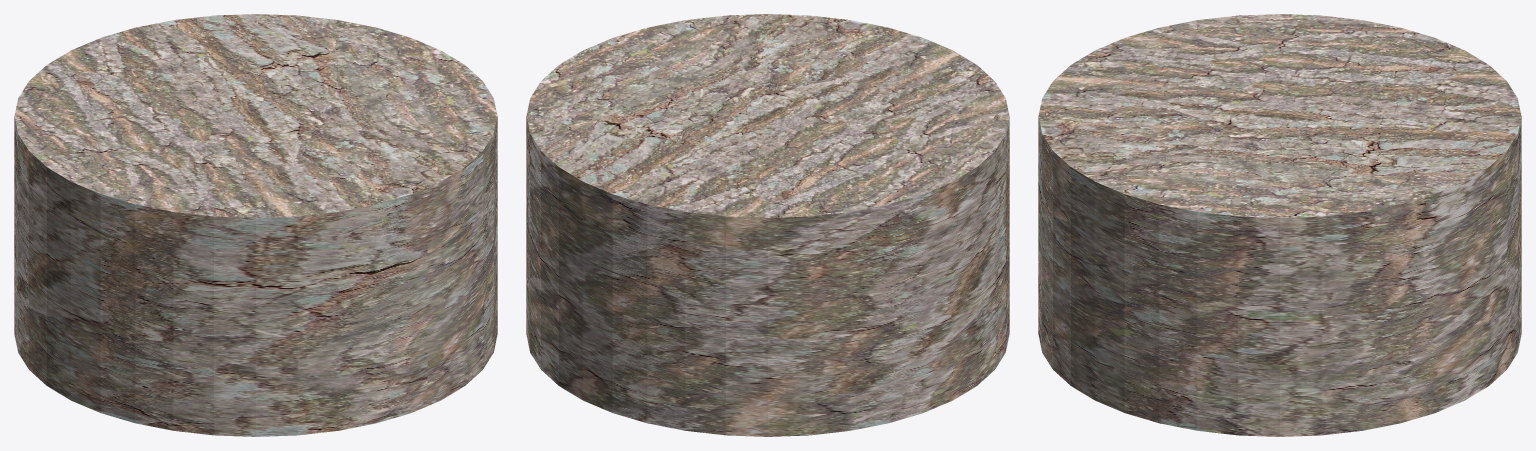
3 renders of one model, left to right at view 1: azimuth 30°, elevation 25°; view 2: azimuth 150°, elevation 25°; view 3: azimuth 270°, elevation 25°, orthographic.
Visible parts, largest first — view 1: Zylinder; view 2: Zylinder; view 3: Zylinder.
Boxes of the visible parts, box(x1,y1,x2,y2) form: Zylinder: box(14, 14, 497, 436); Zylinder: box(526, 14, 1009, 436); Zylinder: box(1038, 14, 1521, 436).
Bounding box in the file's own units: 2 × 1 × 2.
Materials: 1 (1 with a texture image).
